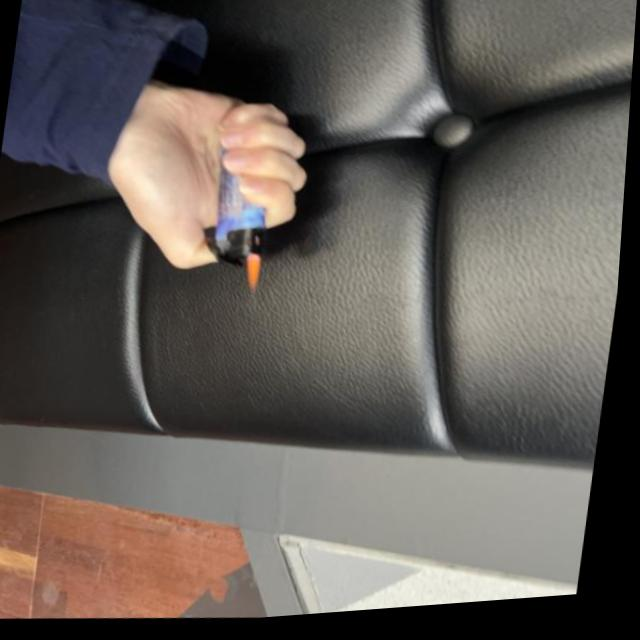Fire: (241, 254, 269, 303)
